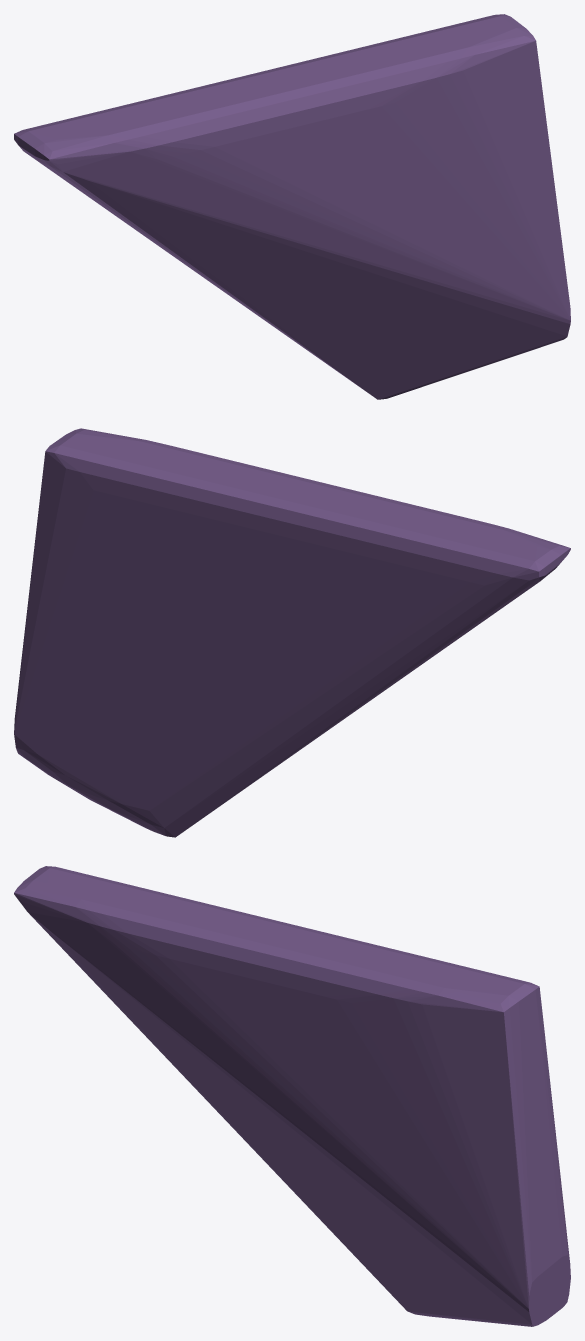
The model's file is right_shoulder_roll_link_part_1.obj.
3 renders of one model, top to bottom at view 1: azimuth 30°, elevation 25°; view 2: azimuth 150°, elevation 25°; view 3: azimuth 330°, elevation 25°, orthographic.
Bounding box in the file's own units: 0.0369 × 0.0242 × 0.00521.
